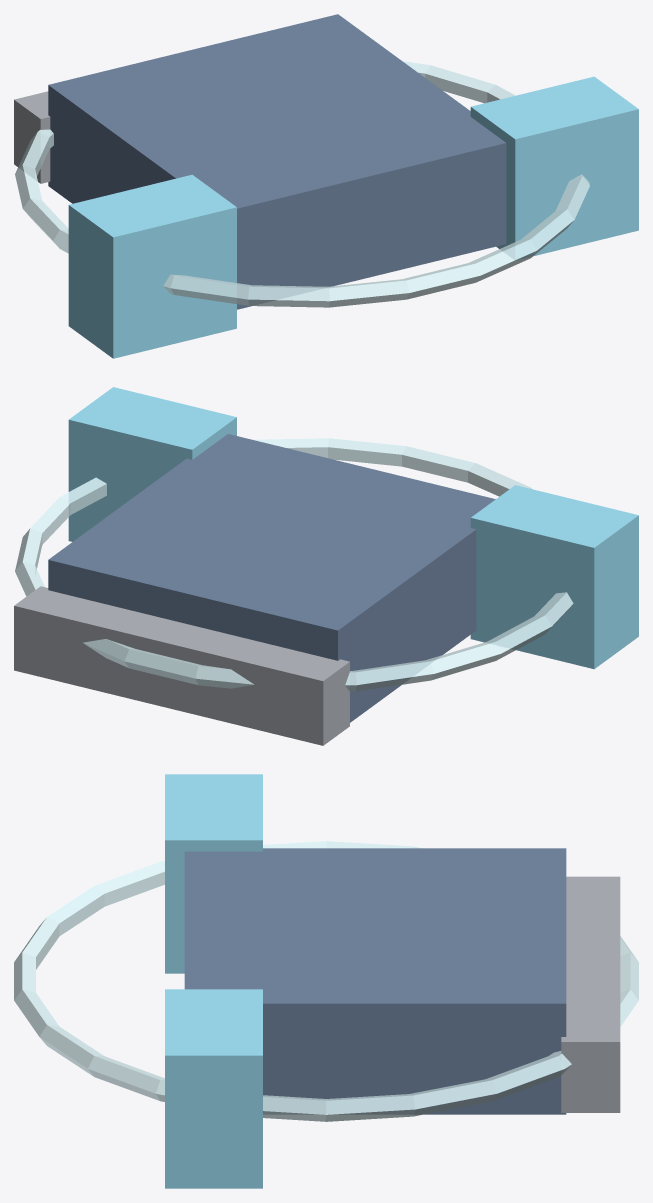
Rendered from 04_magic_armor_upgrade.glb.
The picture shows the model from 3 angles, top to bottom: view 1: azimuth 30°, elevation 25°; view 2: azimuth 150°, elevation 25°; view 3: azimuth 270°, elevation 25°; orthographic projection. The views are drawn at different scales.
Parts seen in each view (by area): view 1: chest_plate, pauldron_l, pauldron_r, warding_aura, waist_guard; view 2: chest_plate, waist_guard, pauldron_l, warding_aura, pauldron_r; view 3: chest_plate, pauldron_r, warding_aura, waist_guard, pauldron_l.
Part boxes in pixels (box(x1,y1,x2,y2)): chest_plate: box(48, 14, 506, 309); pauldron_l: box(68, 174, 236, 358); pauldron_r: box(470, 76, 638, 259); warding_aura: box(15, 61, 589, 307); waist_guard: box(14, 91, 50, 183); chest_plate: box(48, 434, 495, 722); waist_guard: box(14, 586, 349, 745); pauldron_l: box(470, 485, 638, 669); warding_aura: box(15, 438, 573, 691); pauldron_r: box(68, 387, 236, 541); chest_plate: box(184, 848, 566, 1114); pauldron_r: box(165, 989, 262, 1188); warding_aura: box(14, 841, 638, 1121); waist_guard: box(561, 876, 620, 1112); pauldron_l: box(165, 774, 262, 973).
Size of the model in its own units: 1.36 by 0.38 by 1.28.
